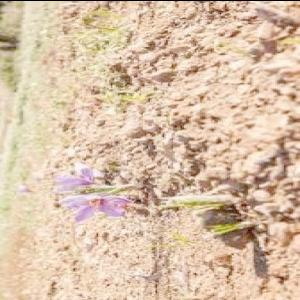Saffron: (62, 194, 124, 221), (54, 163, 94, 190)
